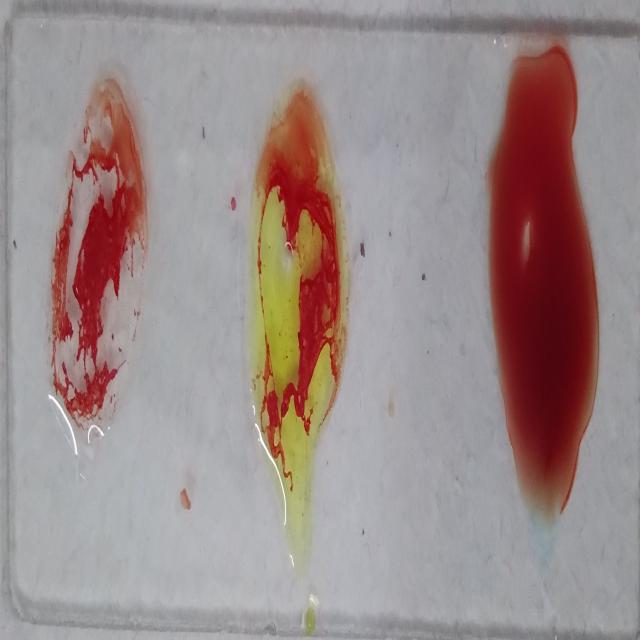B: (250, 85, 350, 528)
D: (44, 78, 146, 444)
